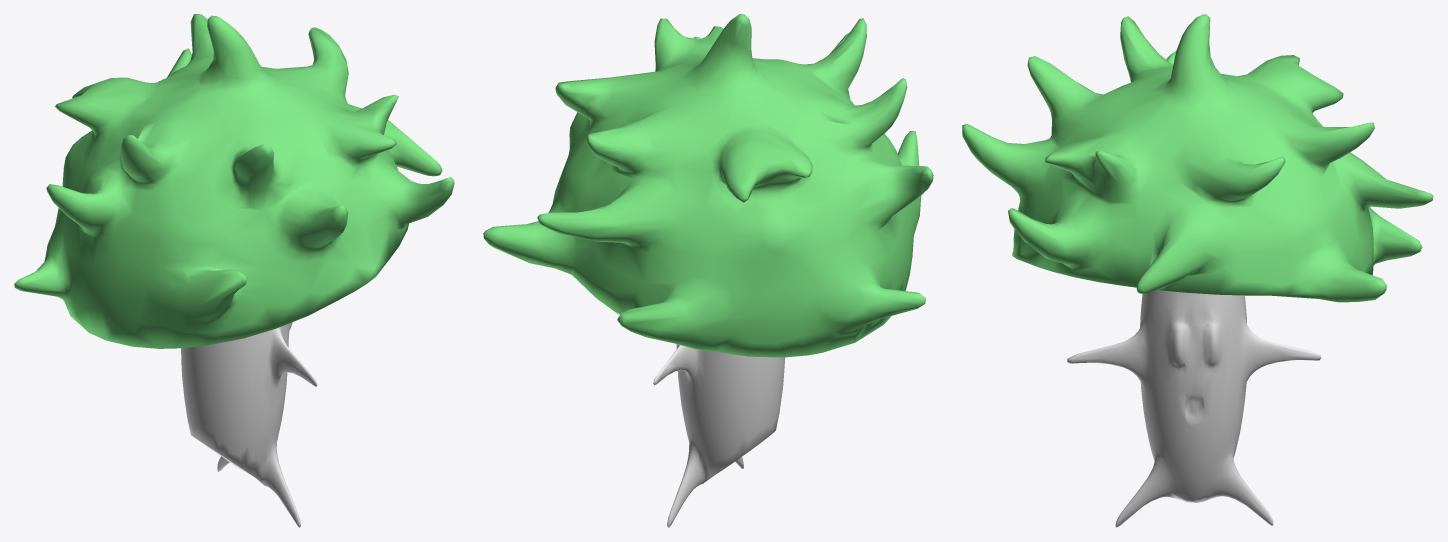
Rendered from mushrooma.fbx.
3 views of the same model, side by side, from view 1: azimuth 30°, elevation 25°; view 2: azimuth 150°, elevation 25°; view 3: azimuth 270°, elevation 25° (orthographic).
Parts seen in each view (by area): view 1: Head, Body; view 2: Head, Body; view 3: Head, Body.
Part boxes in pixels (x1=…): Head: x1=14, y1=14, x2=454, y2=348; Body: x1=181, y1=322, x2=317, y2=527; Head: x1=483, y1=14, x2=933, y2=357; Body: x1=653, y1=344, x2=785, y2=527; Head: x1=962, y1=14, x2=1433, y2=302; Body: x1=1067, y1=290, x2=1321, y2=527.
Size of the model in its own units: 248 by 301 by 261.
